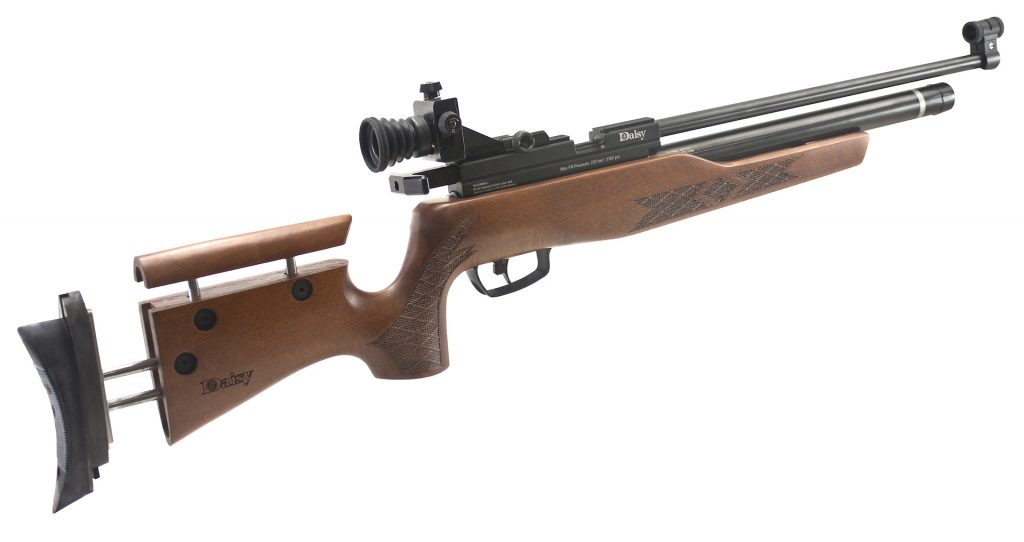Gun: (321, 73, 916, 338)
